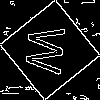W: (25, 25, 74, 76)
